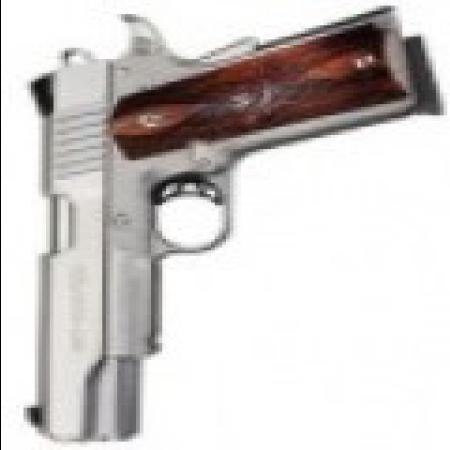Pistol: (15, 14, 427, 442)
